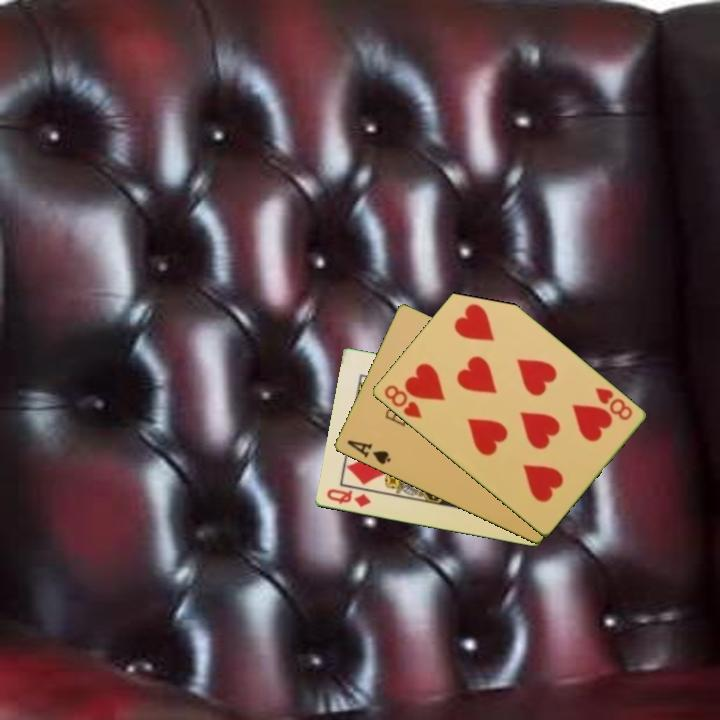8h: (380, 381, 424, 421), (591, 383, 635, 423)
As: (343, 436, 393, 468)
Qd: (323, 485, 374, 510)
